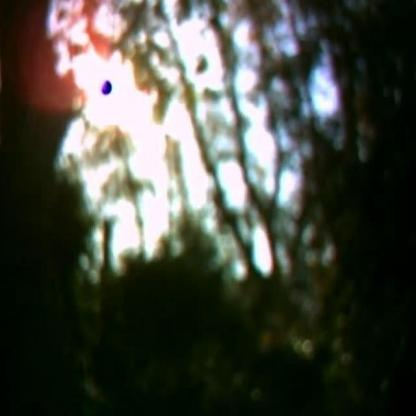other: (50, 14, 312, 267)
